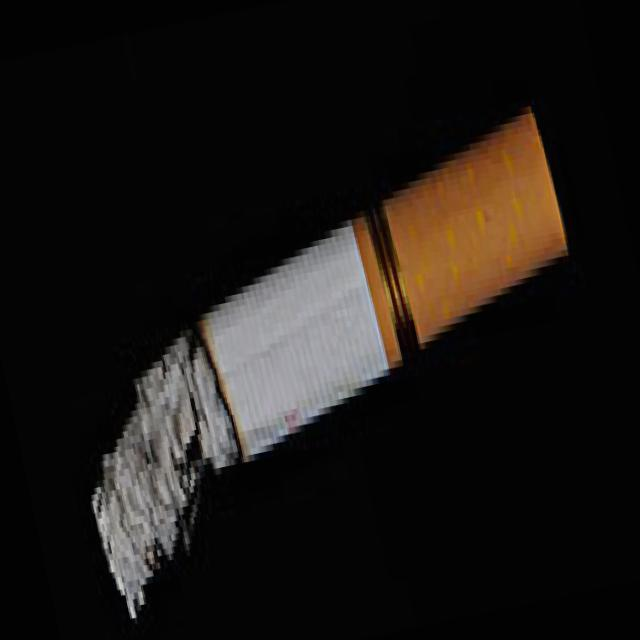smoke: (24, 89, 640, 628)
